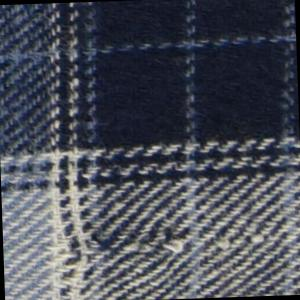Damage: (59, 217, 198, 266), (212, 232, 274, 253)
